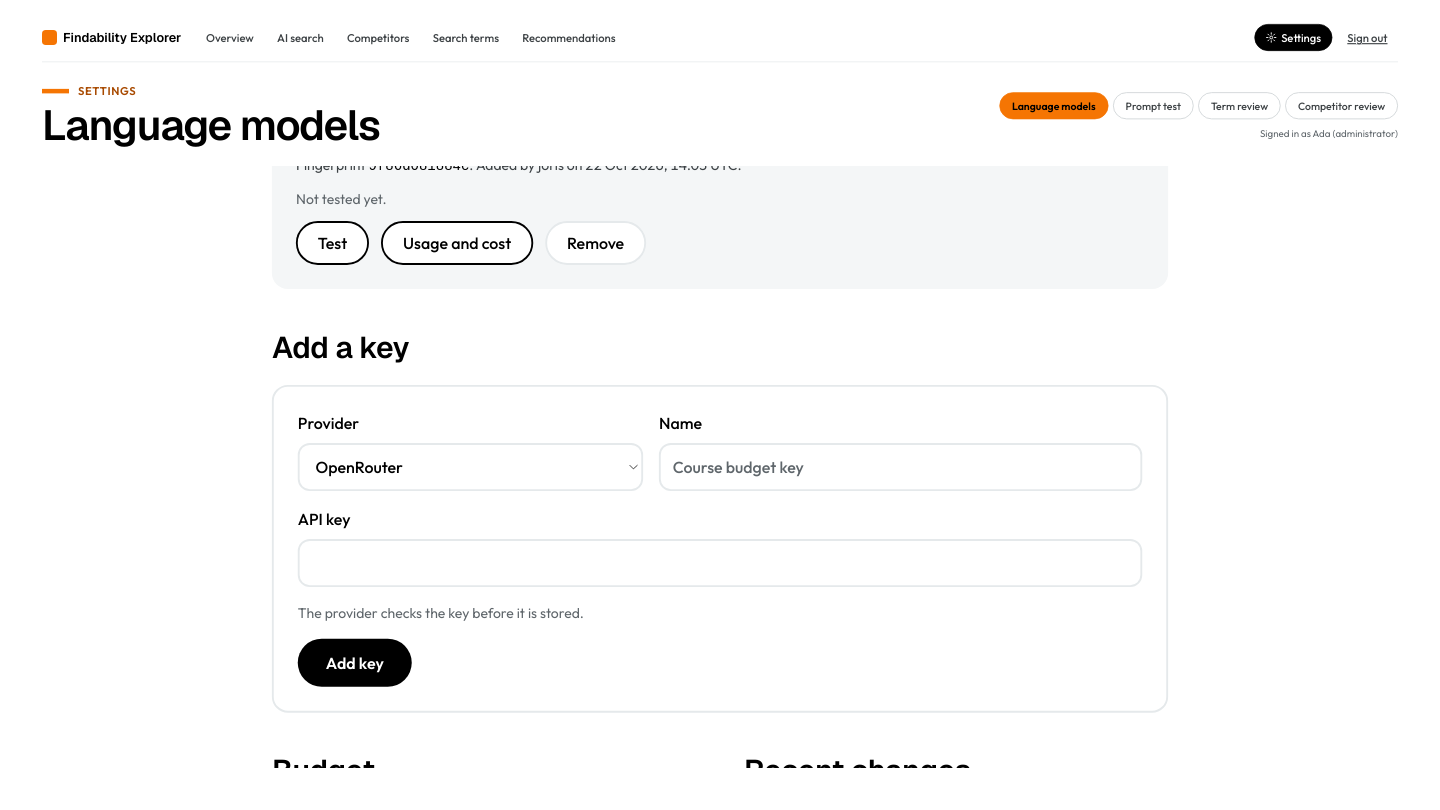
Test: adding a key › shows the provider's reason for refusing it
(page scrolled)
In the field labelled "Name": (901, 467) 659,443 -> 1142,491, type "Bad key"
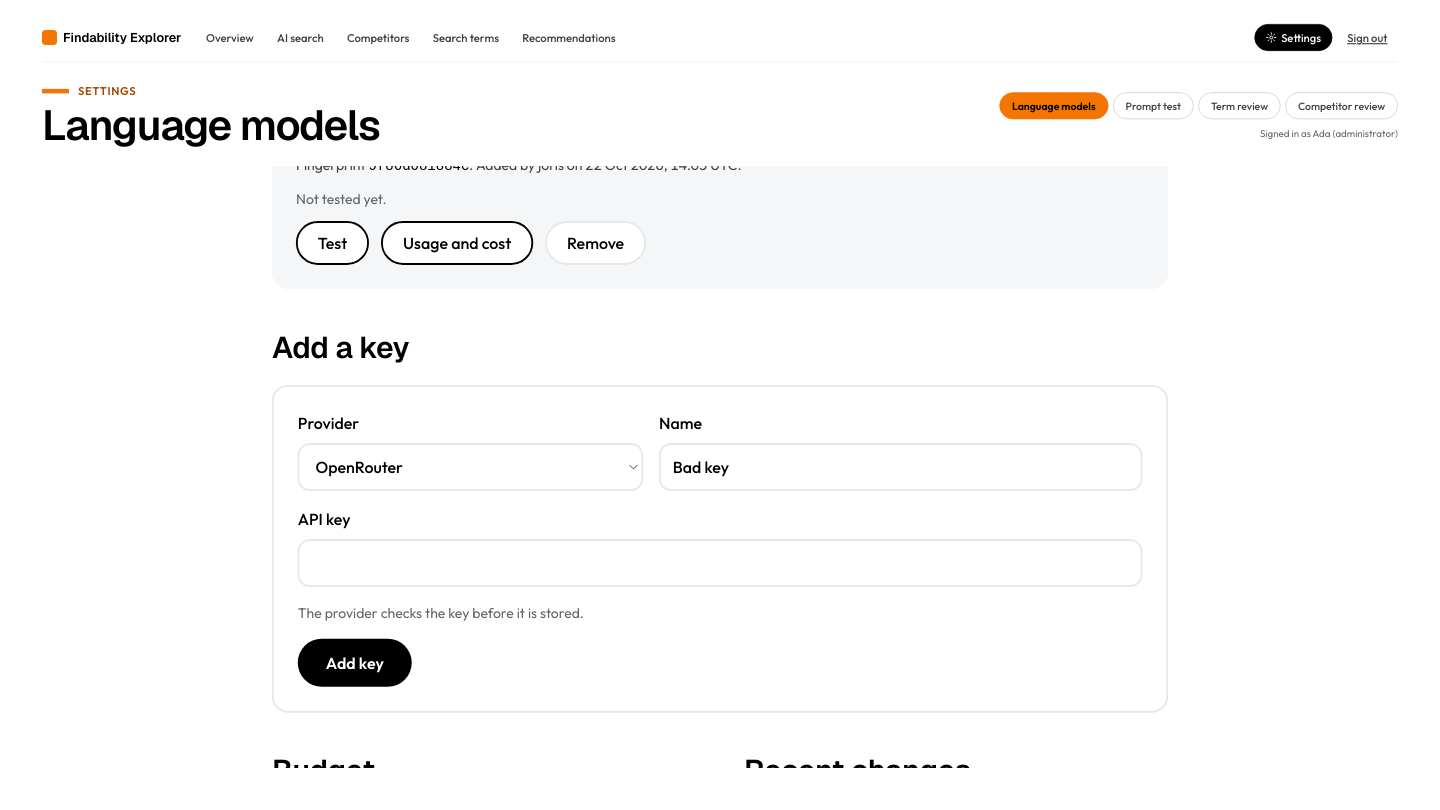
In the password field labelled "API key": (720, 563) 298,539 -> 1142,587, type "sk-0123456789"
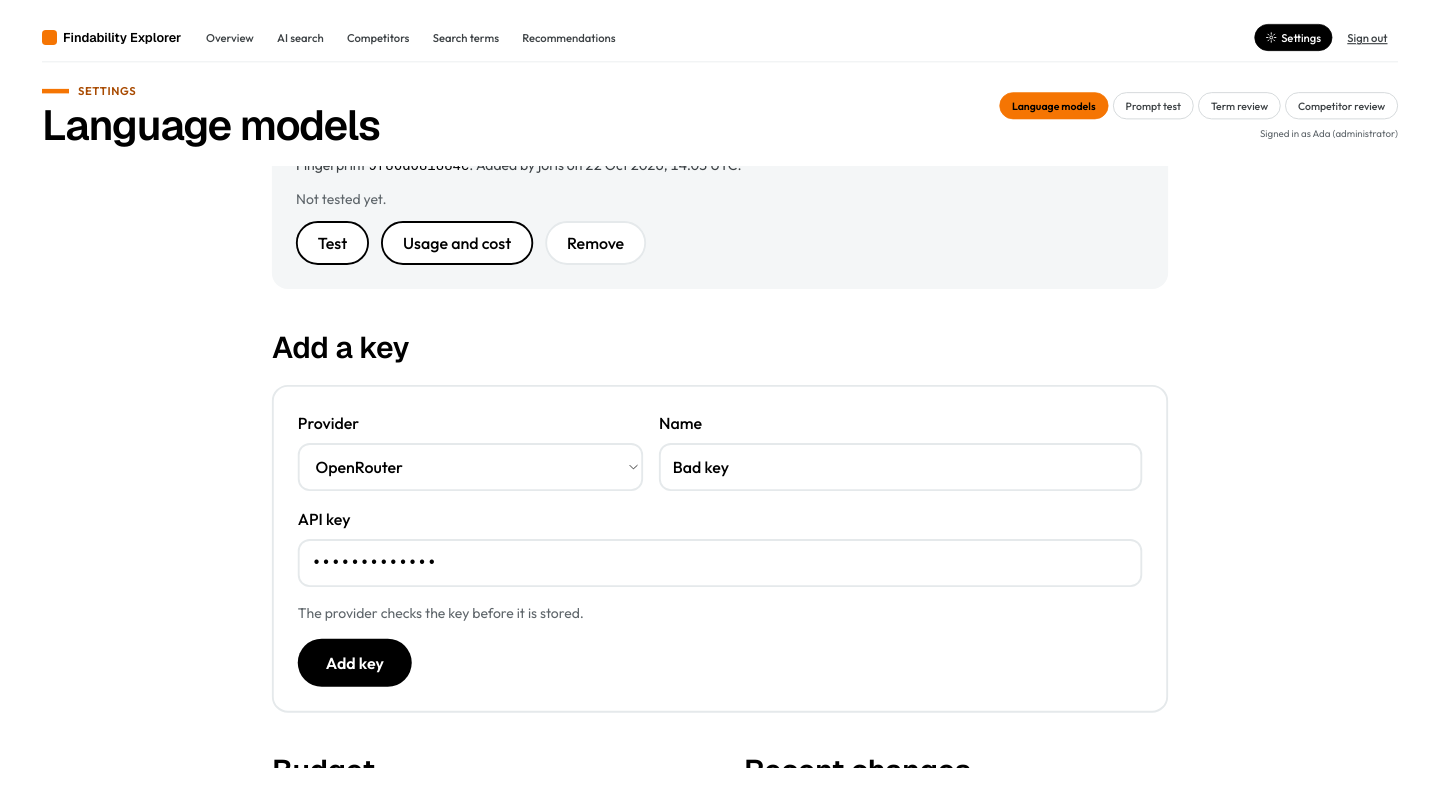
Submit the form that starts with "Provider", box 272,385 -> 1168,713
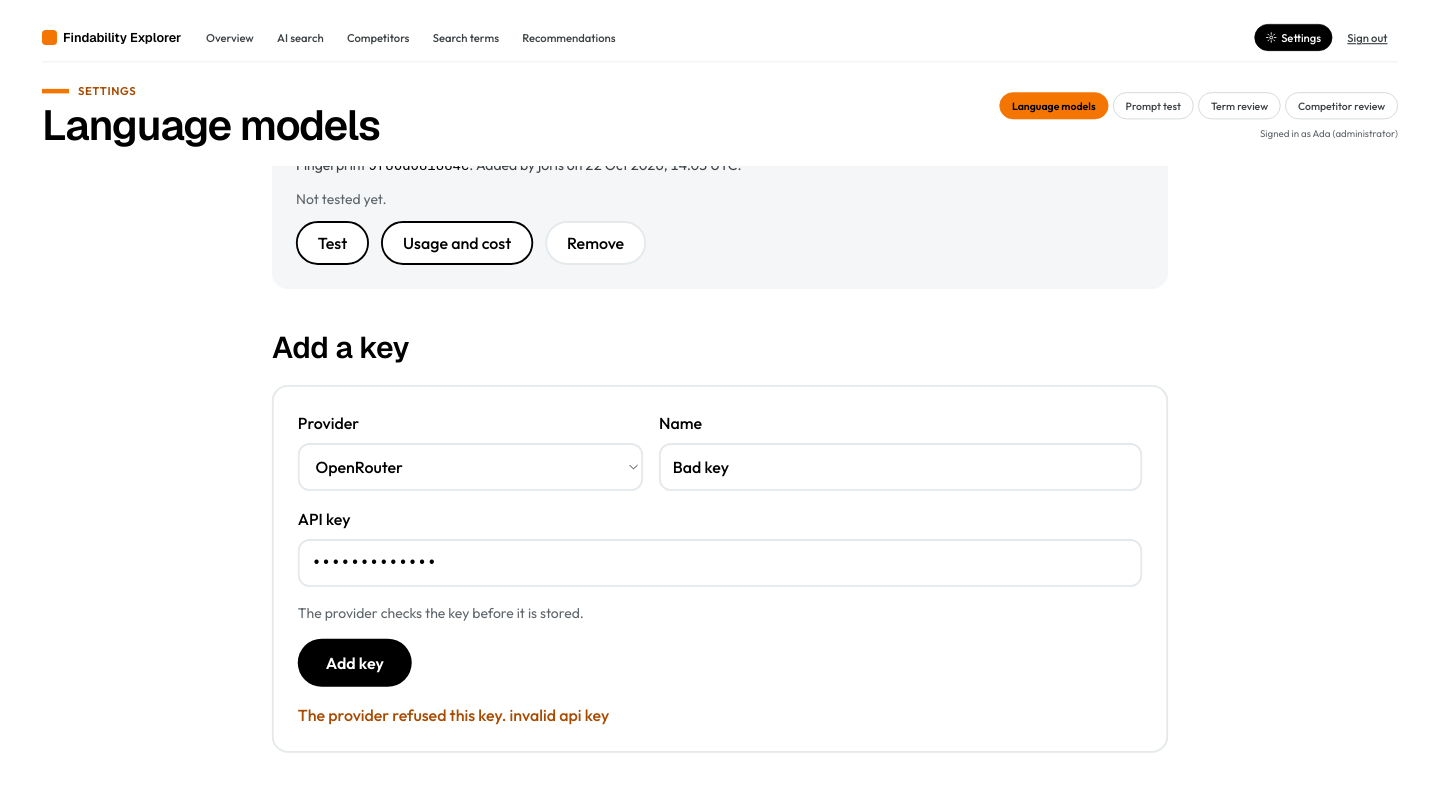
expect the message "The provider refused this key. invalid api key" is shown: met, box 298,705 -> 609,725
